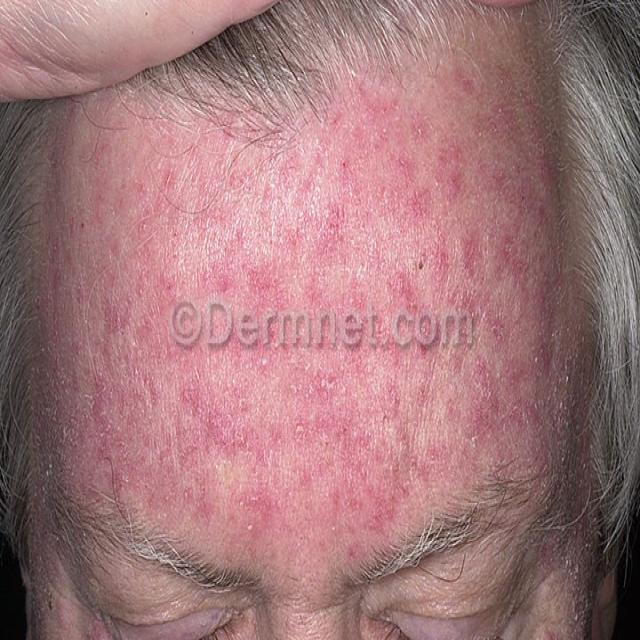Rosacea: (68, 88, 581, 570)
